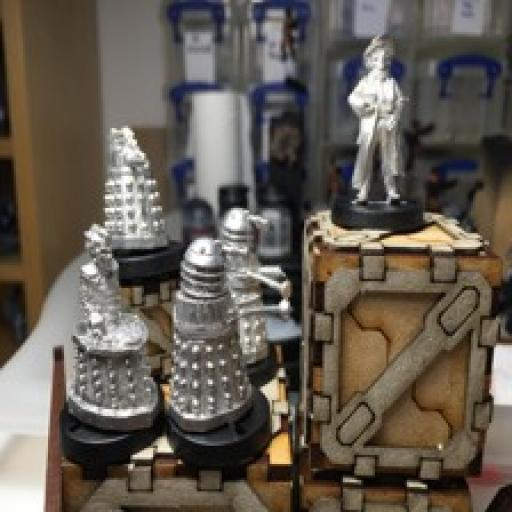dalek: (169, 229, 293, 427), (62, 226, 160, 429), (208, 209, 296, 364), (98, 120, 172, 250)
